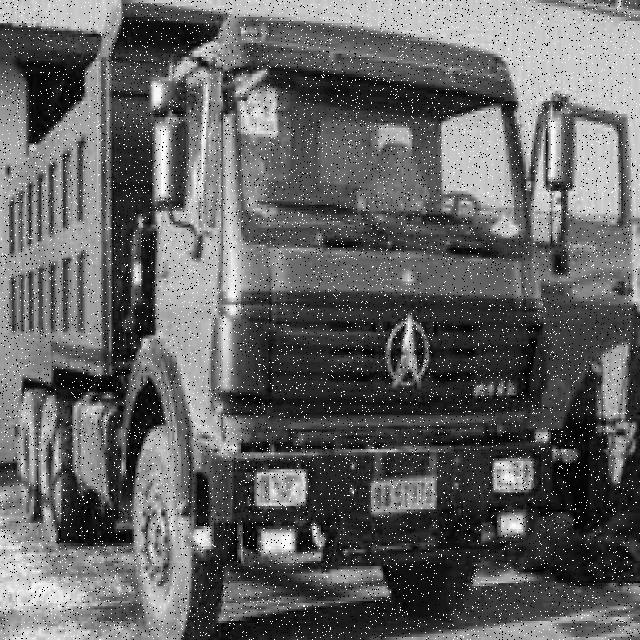Truck- Multi-Axle: (0, 0, 635, 640)
